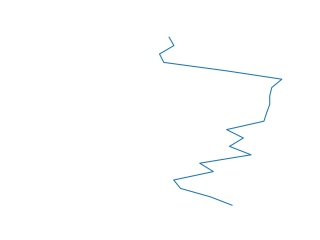floodPlain: (157, 35, 284, 209)
